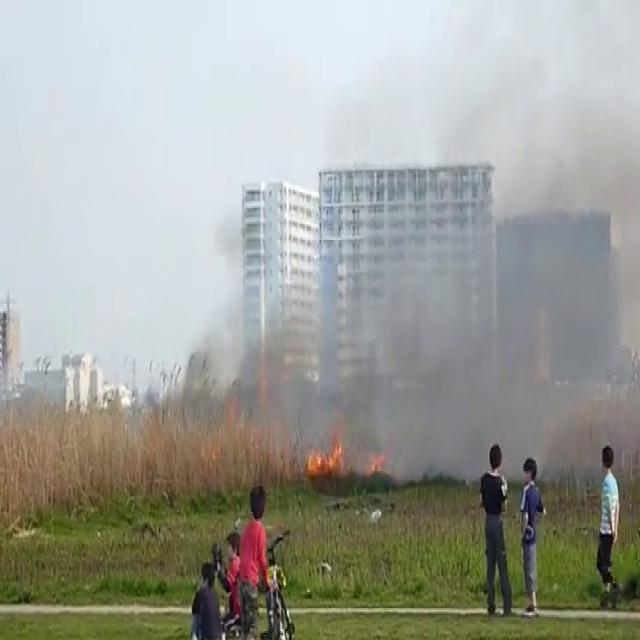Fire: (302, 423, 352, 484)
Smoke: (133, 17, 640, 474)
